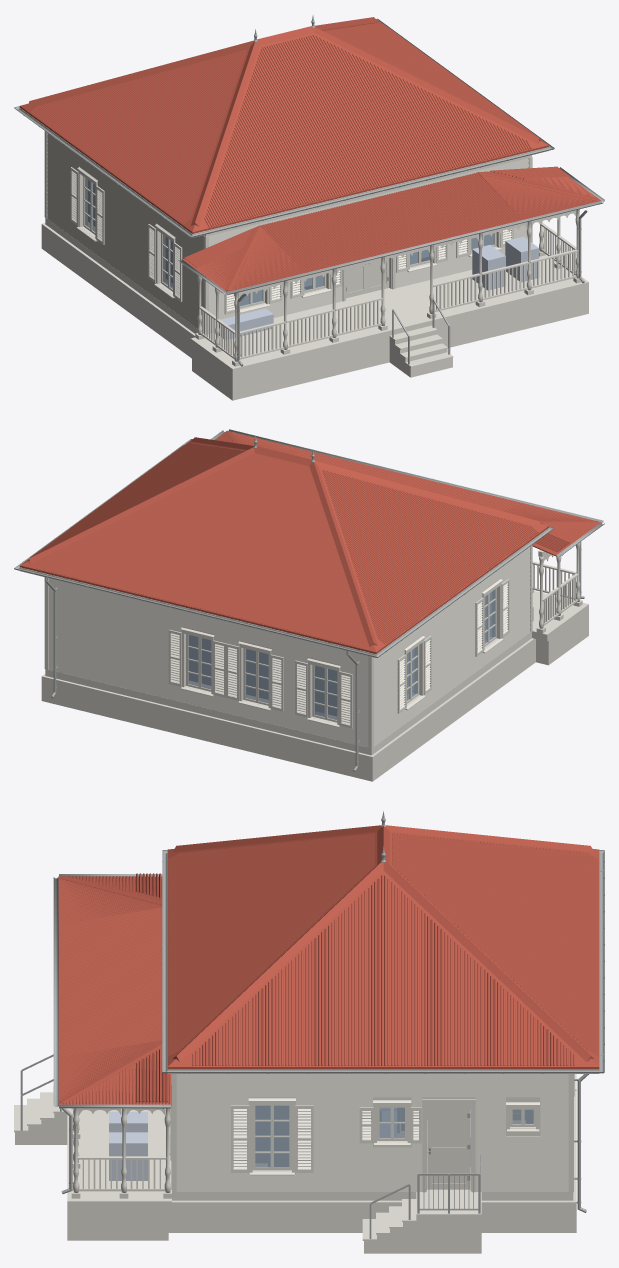
The model's file is riviere_noire_h04.glb.
3 renders of one model, top to bottom at view 1: azimuth 30°, elevation 25°; view 2: azimuth 150°, elevation 25°; view 3: azimuth 270°, elevation 25°, orthographic. The views are drawn at different scales.
Parts seen in each view (by area): view 1: Det_Roof_Ribs_Caps, Roof_Main, VerandaRoof_Sheet, white_peeling_timber_arch, weatherboard_cream_arch, Floor_Slab, Plinth_Basalt, shutter_paint_arch, Gutter_Main, basalt_dressed_arch, VerandaRoof_Gutters, glass_arch (+10 smaller); view 2: Det_Roof_Ribs_Caps, Roof_Main, weatherboard_cream_arch, Plinth_Basalt, white_peeling_timber_arch, shutter_paint_arch, Floor_Slab, VerandaRoof_Sheet, glass_arch, Gutter_Main, limewash_arch, VerandaRoof_Gutters (+5 smaller); view 3: Det_Roof_Ribs_Caps, Roof_Main, weatherboard_cream_arch, VerandaRoof_Sheet, Plinth_Basalt, white_peeling_timber_arch, Floor_Slab, Gutter_Main, basalt_dressed_arch, DoorLeaf_08_L_in, shutter_paint_arch, glass_arch (+11 smaller).
Boxes of the visible parts, box(x1,y1,x2,y2) form: Det_Roof_Ribs_Caps: box(28, 17, 569, 267); Roof_Main: box(19, 19, 548, 233); VerandaRoof_Sheet: box(181, 171, 600, 292); white_peeling_timber_arch: box(44, 131, 581, 366); weatherboard_cream_arch: box(47, 133, 528, 333); Floor_Slab: box(45, 218, 588, 375); Plinth_Basalt: box(41, 223, 588, 400); shutter_paint_arch: box(70, 167, 513, 314); Gutter_Main: box(14, 18, 554, 237); basalt_dressed_arch: box(389, 325, 453, 377); VerandaRoof_Gutters: box(178, 167, 604, 294); glass_arch: box(85, 178, 494, 306); Det_Roof_Ribs_Caps: box(28, 437, 569, 647); Roof_Main: box(19, 439, 548, 653); weatherboard_cream_arch: box(48, 546, 530, 747); Plinth_Basalt: box(41, 611, 588, 781); white_peeling_timber_arch: box(44, 542, 582, 748); shutter_paint_arch: box(168, 579, 509, 728); Floor_Slab: box(45, 591, 588, 755); VerandaRoof_Sheet: box(215, 431, 601, 556); glass_arch: box(188, 589, 494, 719); Gutter_Main: box(14, 439, 554, 657); limewash_arch: box(182, 578, 500, 727); VerandaRoof_Gutters: box(210, 429, 604, 557); Det_Roof_Ribs_Caps: box(136, 825, 598, 1102); Roof_Main: box(167, 831, 599, 1069); weatherboard_cream_arch: box(176, 1074, 568, 1191); VerandaRoof_Sheet: box(58, 876, 171, 1106); Plinth_Basalt: box(67, 1090, 576, 1240); white_peeling_timber_arch: box(71, 1074, 576, 1198); Floor_Slab: box(67, 1108, 573, 1209); Gutter_Main: box(162, 850, 604, 1073); basalt_dressed_arch: box(14, 1086, 416, 1253); DoorLeaf_08_L_in: box(427, 1104, 470, 1189); shutter_paint_arch: box(170, 1074, 574, 1172); glass_arch: box(255, 1105, 533, 1167).
Bounding box in the file's own units: 12.93 × 7.7 × 13.55.
